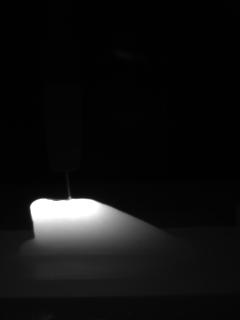tip_wire_left: (50, 167, 71, 199)
tip_wire_right: (68, 166, 80, 200)
